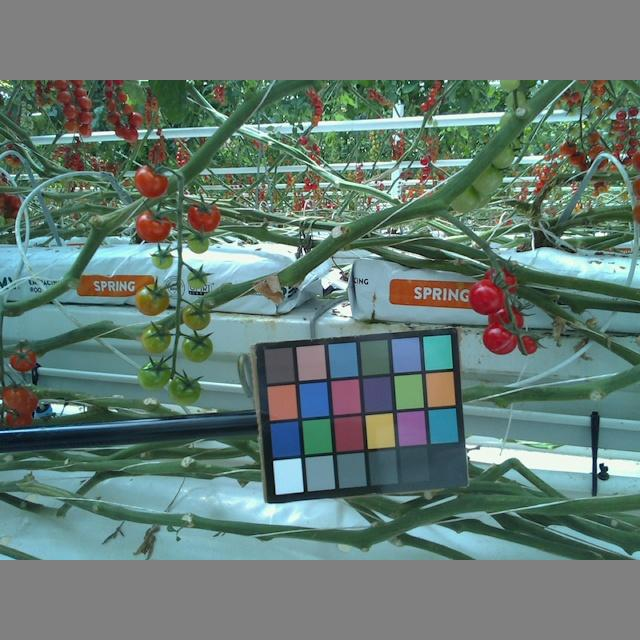green: (182, 331, 219, 362), (140, 326, 170, 357), (169, 374, 201, 402), (137, 365, 170, 392), (150, 245, 174, 271), (187, 305, 211, 326), (189, 268, 209, 292), (186, 237, 210, 253)
pink: (136, 282, 170, 317)
red: (466, 278, 506, 313), (187, 202, 221, 235), (135, 212, 170, 244), (135, 164, 167, 197), (483, 327, 517, 354), (8, 349, 39, 374), (4, 385, 31, 412), (519, 334, 539, 355)
